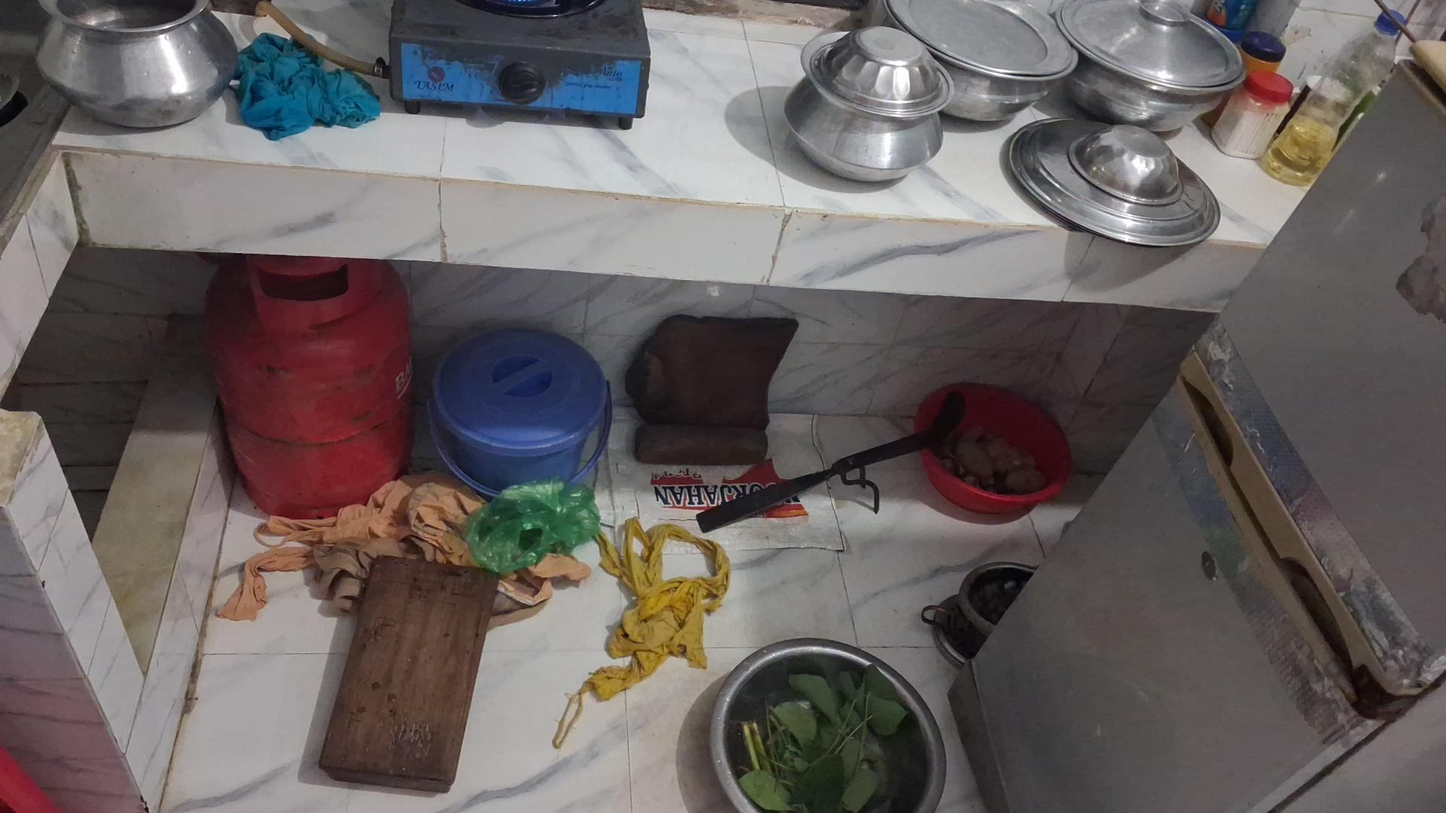Bottle: (1259, 12, 1408, 189)
Bowl: (709, 638, 947, 812), (916, 381, 1074, 519), (1075, 126, 1192, 200)
Bucket: (436, 342, 605, 495)
Jar: (1211, 71, 1293, 160)
Plate: (1010, 133, 1220, 241)
Pot: (33, 1, 239, 130), (882, 0, 1078, 125), (1074, 0, 1245, 130), (782, 76, 946, 185)
